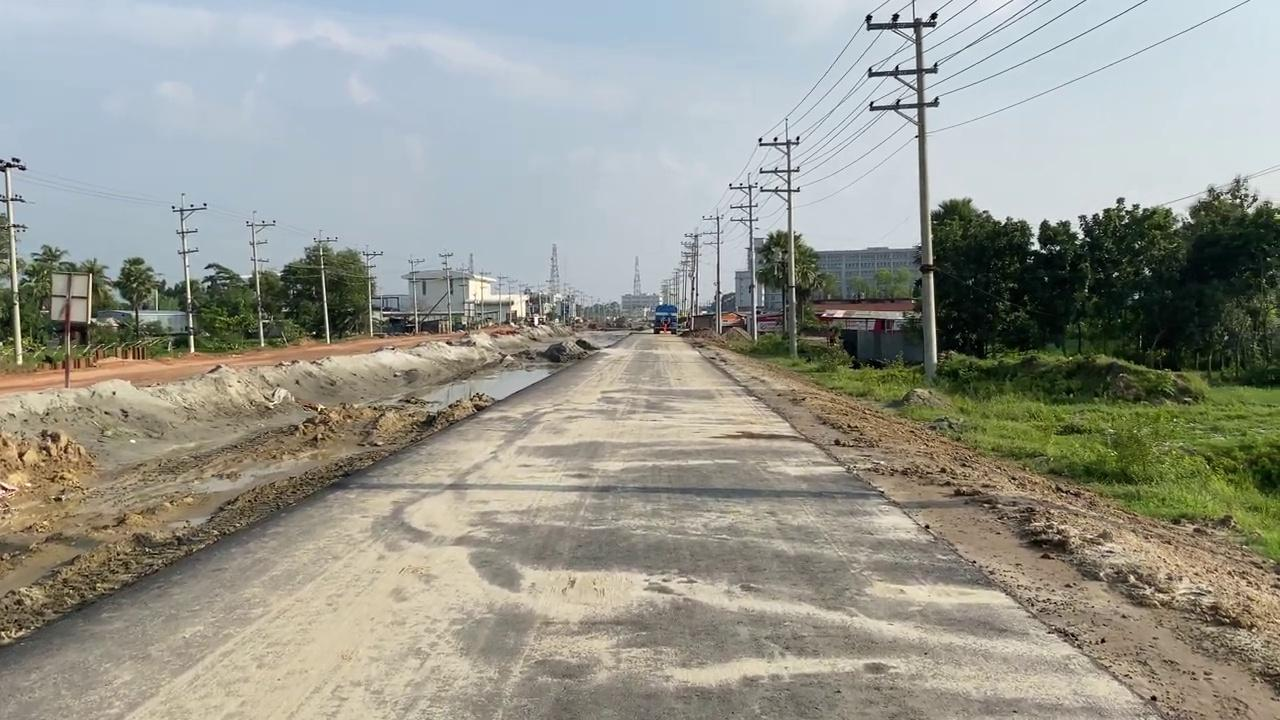Garbage: (0, 319, 599, 646)
Muddy road: (2, 347, 472, 718)
Obstacle: (49, 269, 92, 387)
Pole: (864, 1, 941, 379), (757, 117, 801, 357), (171, 192, 207, 354), (0, 157, 27, 365), (245, 210, 275, 347), (312, 231, 337, 344), (361, 246, 382, 336)
Rickshaw: (691, 334, 1279, 718)
Sidewalk: (400, 336, 568, 413)
Traffic-sign: (753, 228, 826, 342), (113, 255, 158, 338)
Tree: (651, 303, 678, 334)
